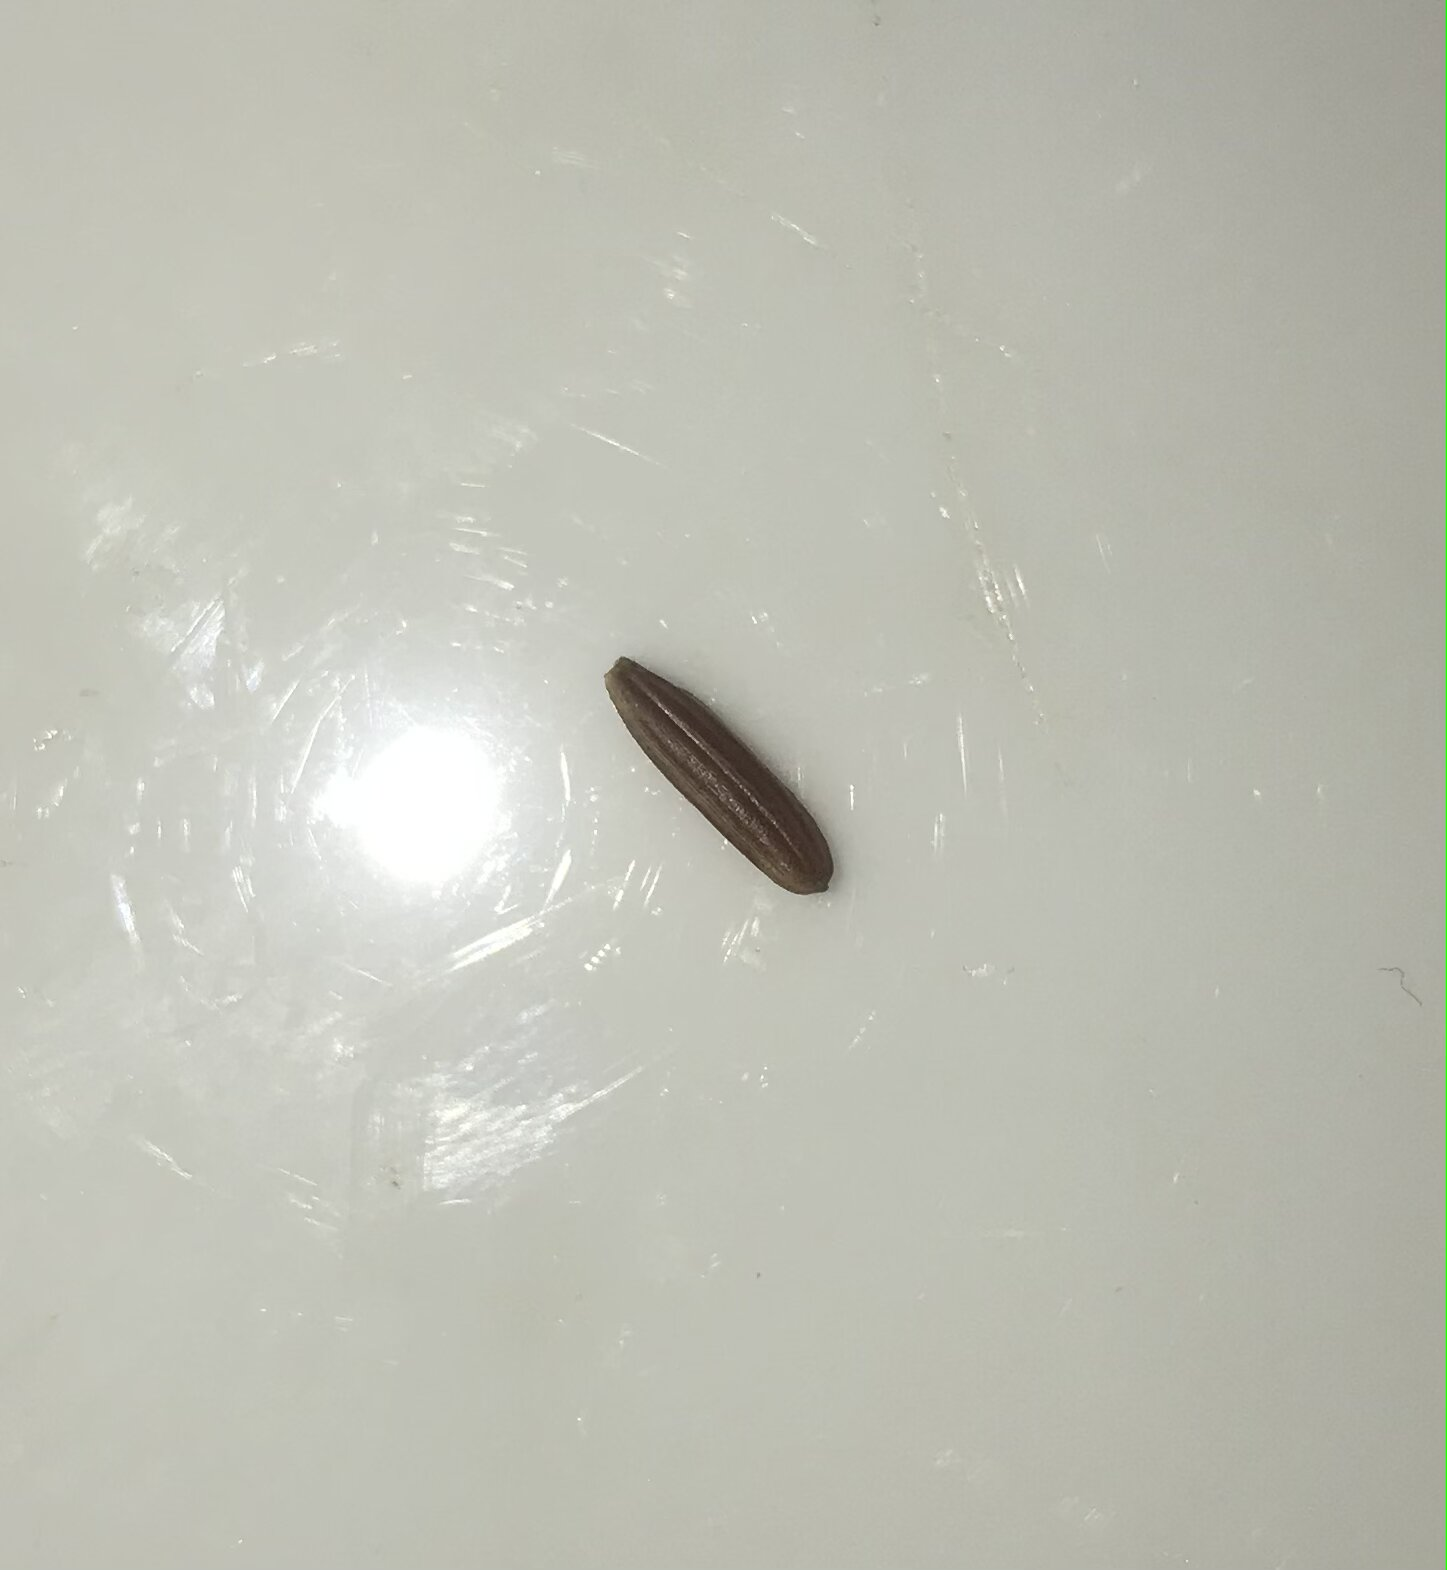Gao Huyet Rong: (592, 648, 847, 912)
